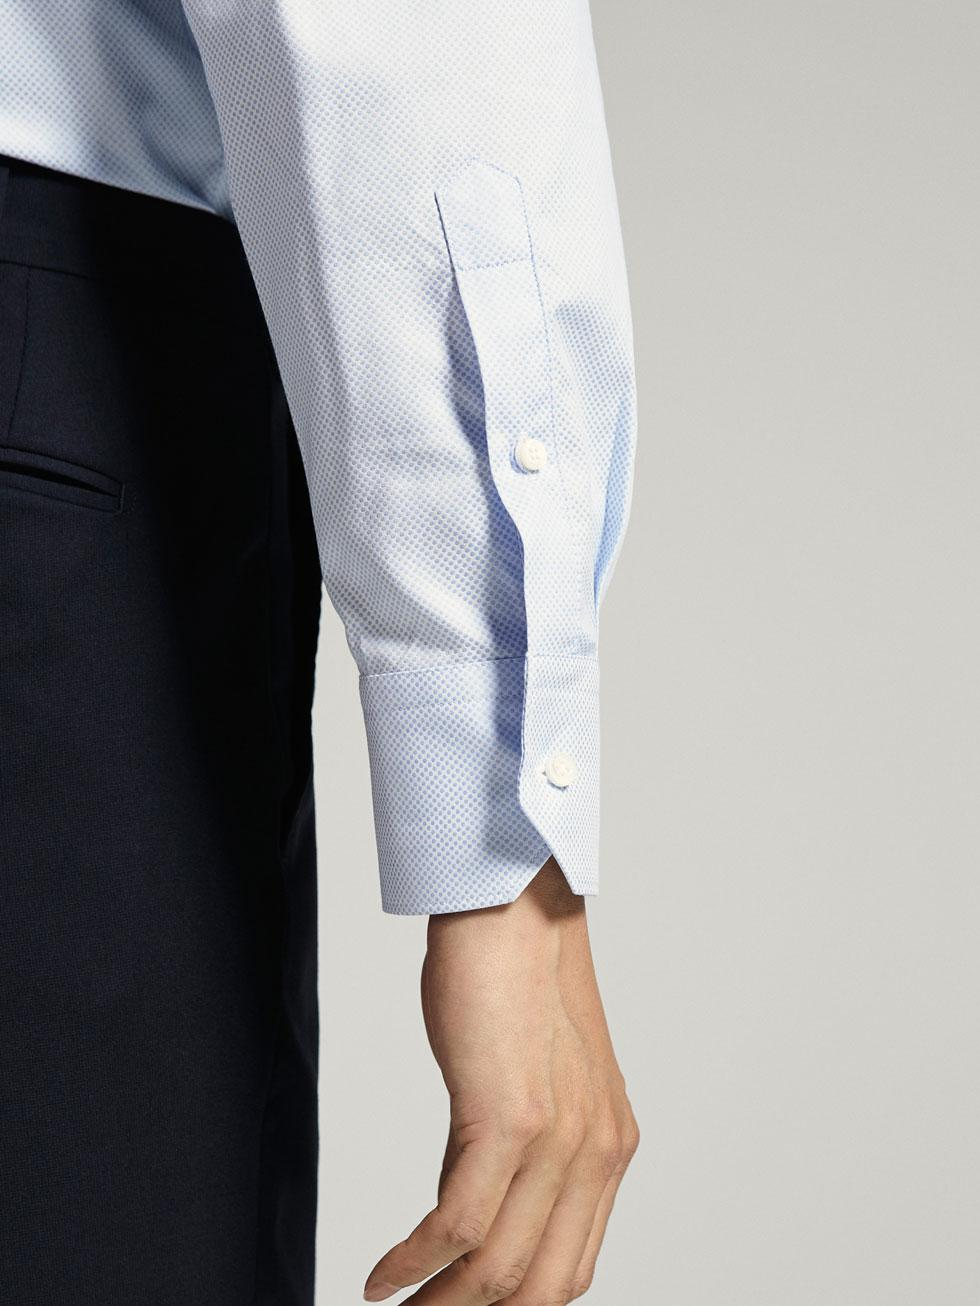teeshirt: (1, 3, 682, 955)
